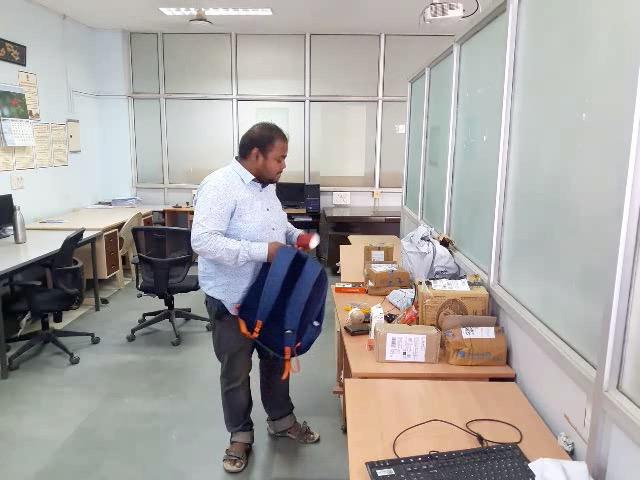shoplifting: (219, 226, 351, 377)
